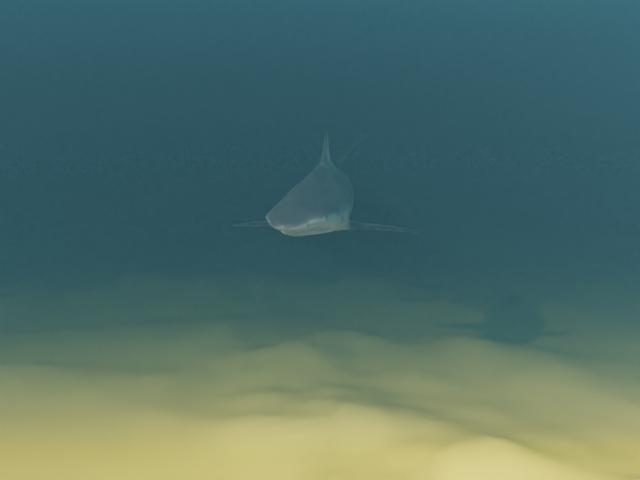Carribean Shark.001: (230, 128, 421, 236)
